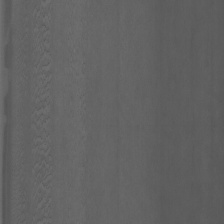silk_spot: (26, 12, 57, 203)
